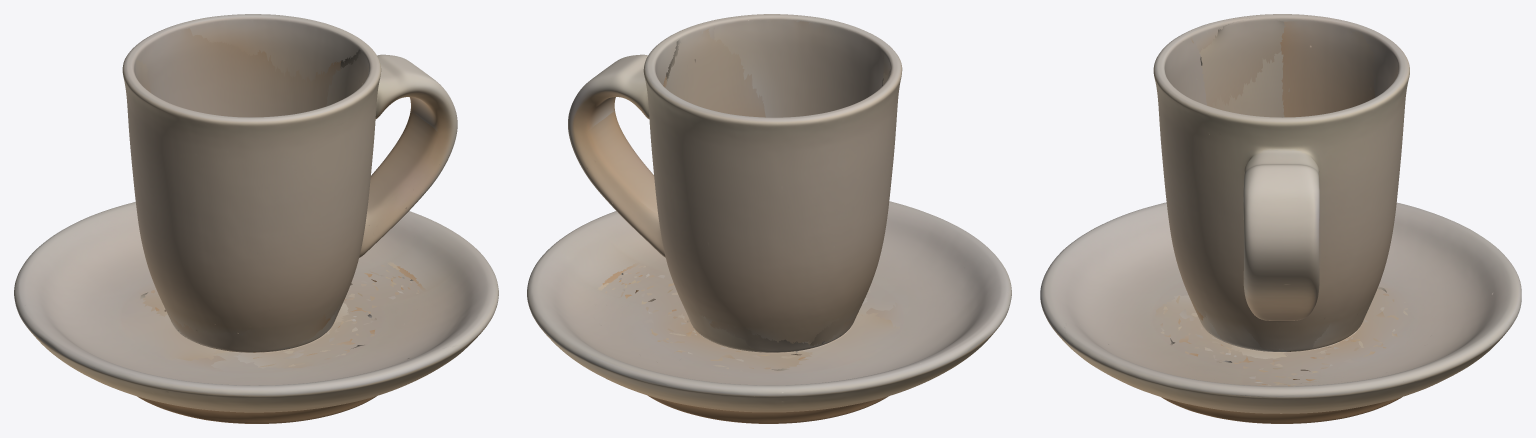
The model's file is tiny_planet_friends_3d-mug-2923.glb.
3 views of the same model, side by side, from view 1: azimuth 30°, elevation 25°; view 2: azimuth 150°, elevation 25°; view 3: azimuth 270°, elevation 25° (orthographic).
Parts seen in each view (by area): view 1: texture_pbr_v128; view 2: texture_pbr_v128; view 3: texture_pbr_v128.
Boxes of the visible parts, x1,y1,x2,y2 form: texture_pbr_v128: (14, 14, 498, 423); texture_pbr_v128: (527, 14, 1011, 423); texture_pbr_v128: (1040, 14, 1521, 423).
Bounding box in the file's own units: 1.12 × 0.7623 × 1.12.
Materials: 1 (1 with a texture image).
